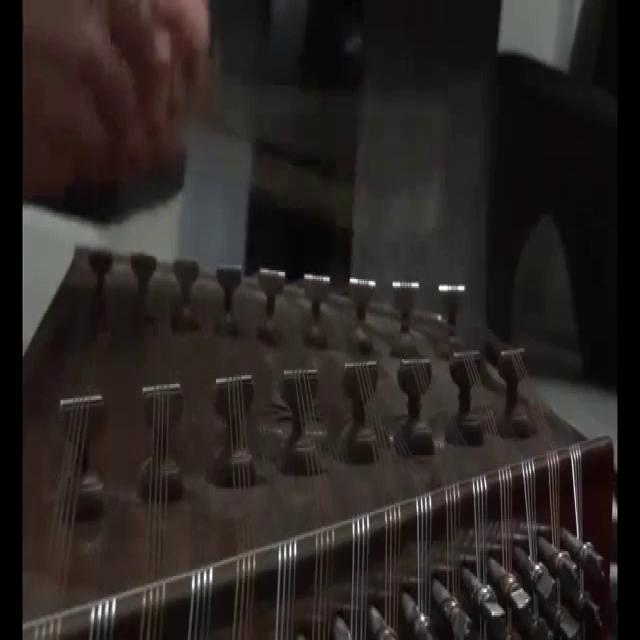Santur: (19, 227, 620, 640)
